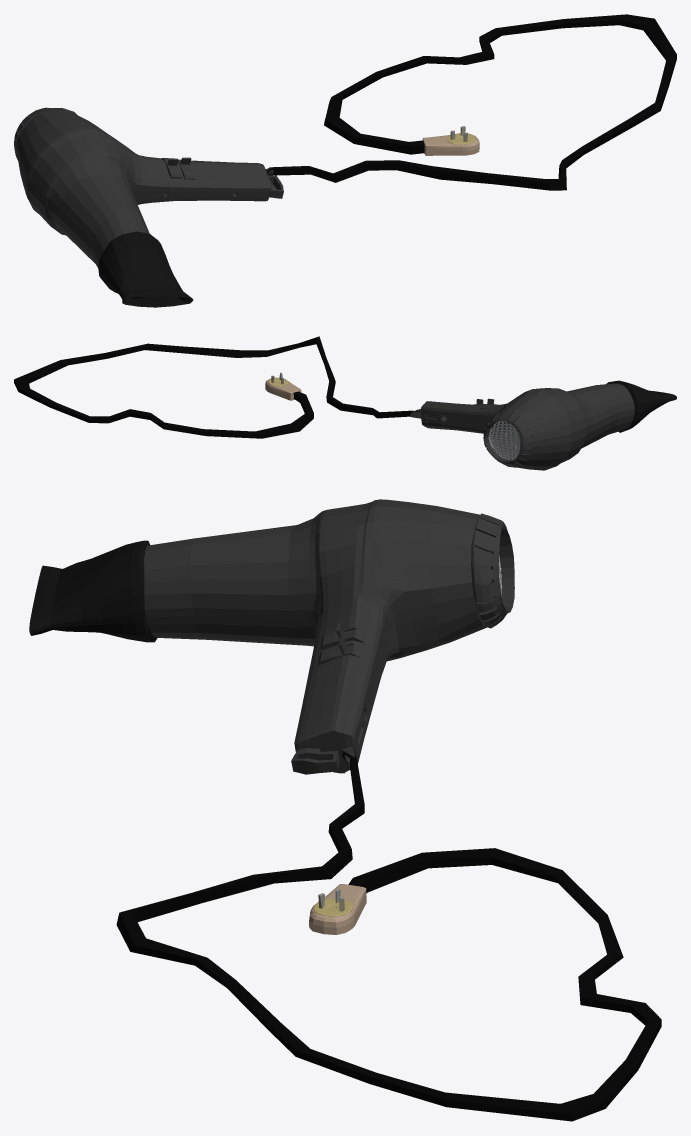
The model's file is HairDryer.gltf.
3 renders of one model, top to bottom at view 1: azimuth 30°, elevation 25°; view 2: azimuth 150°, elevation 25°; view 3: azimuth 270°, elevation 25°, orthographic. The views are drawn at different scales.
Visible parts, largest first — view 1: HairDryer; view 2: HairDryer; view 3: HairDryer.
Part boxes in pixels (<box>): HairDryer: <box>14,14,676,307</box>; HairDryer: <box>14,336,676,470</box>; HairDryer: <box>29,499,661,1121</box>.
Size of the model in its own units: 6.24 by 0.8639 by 3.22.
1 material, 1 textured.
